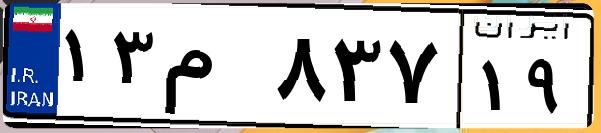1: (57, 26, 110, 100), (475, 38, 525, 113)
3: (330, 28, 385, 110), (110, 28, 158, 98)
7: (385, 28, 445, 110)
8: (270, 28, 330, 110)
9: (525, 38, 570, 115)
م: (158, 20, 270, 120)
